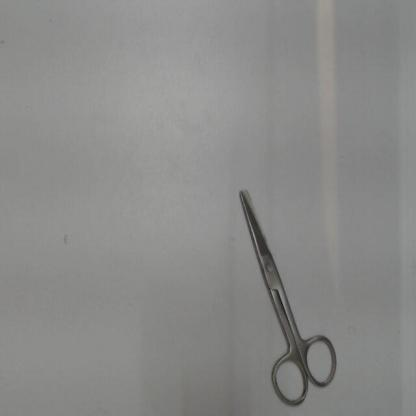Dressing Scissors: (232, 173, 346, 412)
